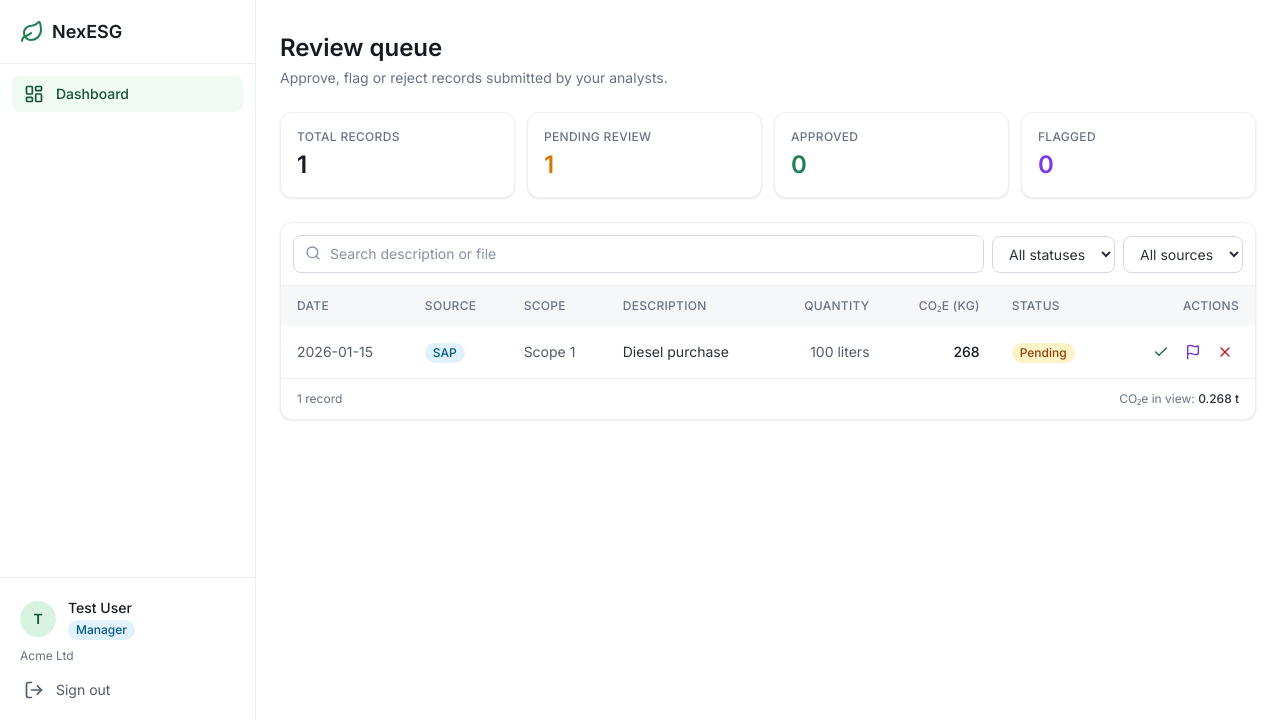
Test: dashboard by role › flagging needs a reason before anything is sent
Click the button named "flag record".
click(1193, 352)  # box 1179,338 -> 1207,366
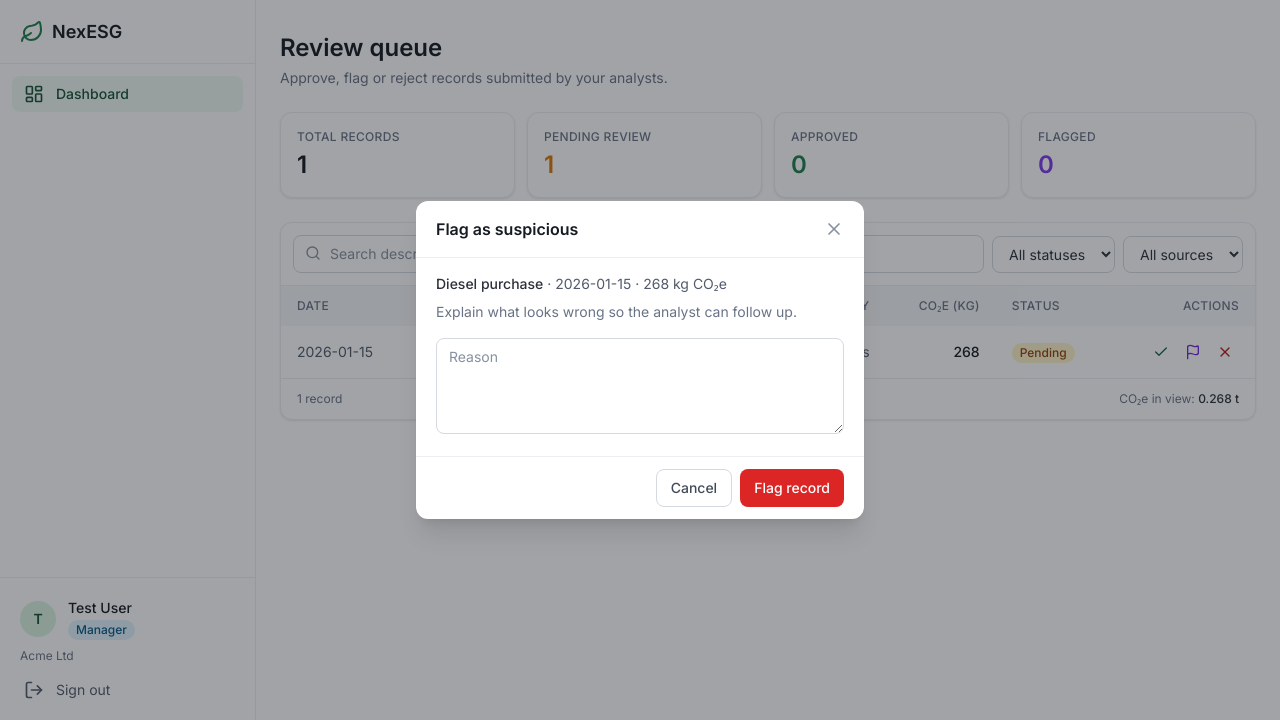
Click the button "Flag record".
click(792, 488)  # box 740,469 -> 844,507
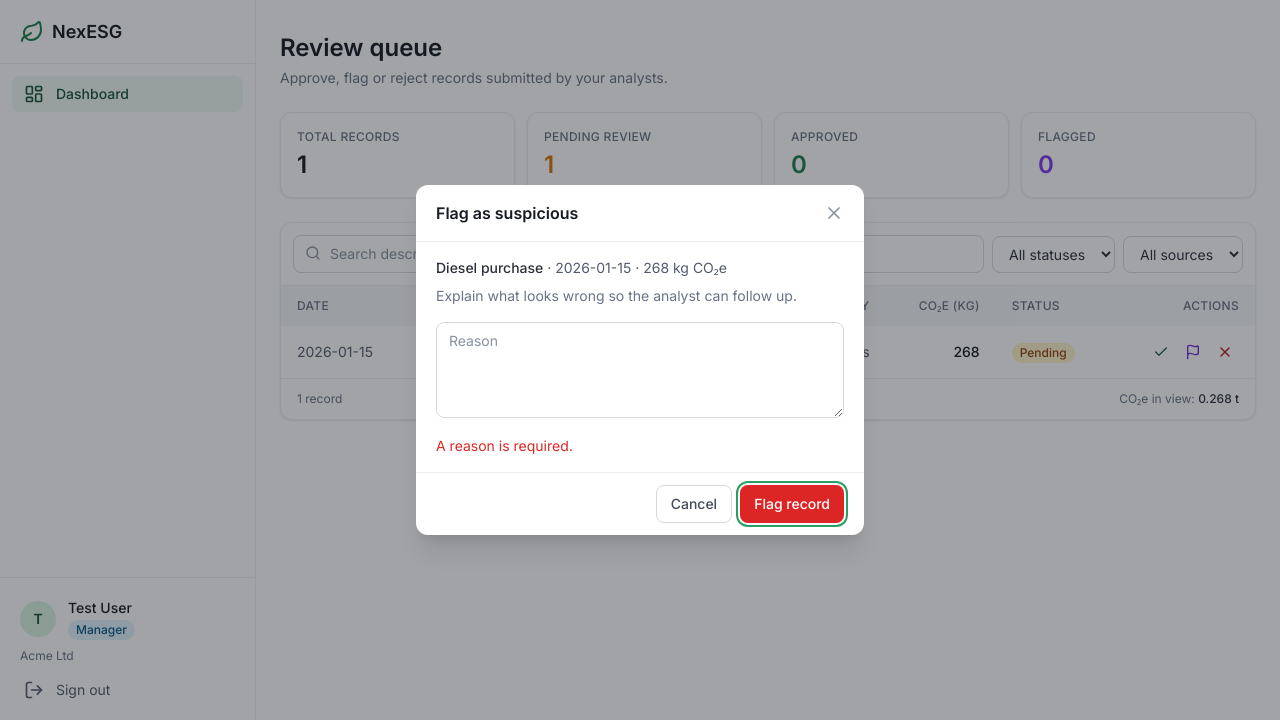
Check: the message shows "reason is required", box 436,437 -> 573,454
Type "Usage looks 3x too high" into the text box with placeholder "Reason".
click(640, 370); type("Usage looks 3x too high")  # box 436,322 -> 844,418
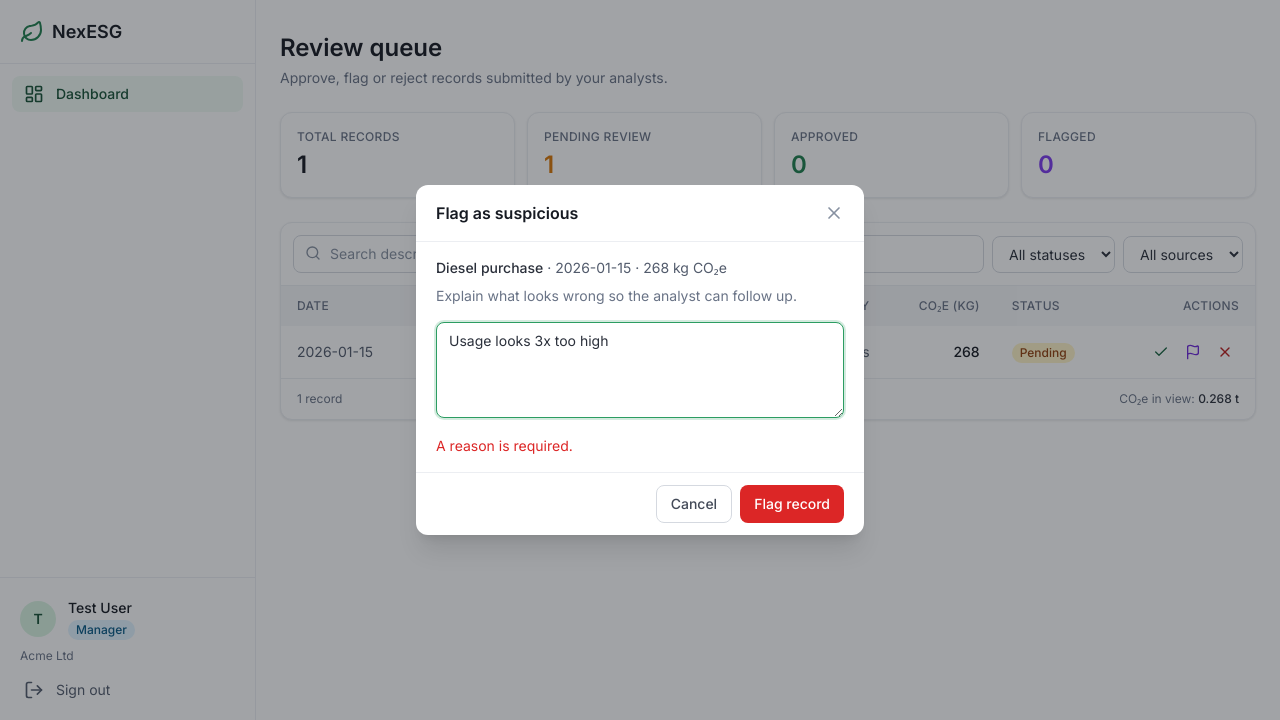
Click the button "Flag record".
click(792, 504)  # box 740,485 -> 844,523
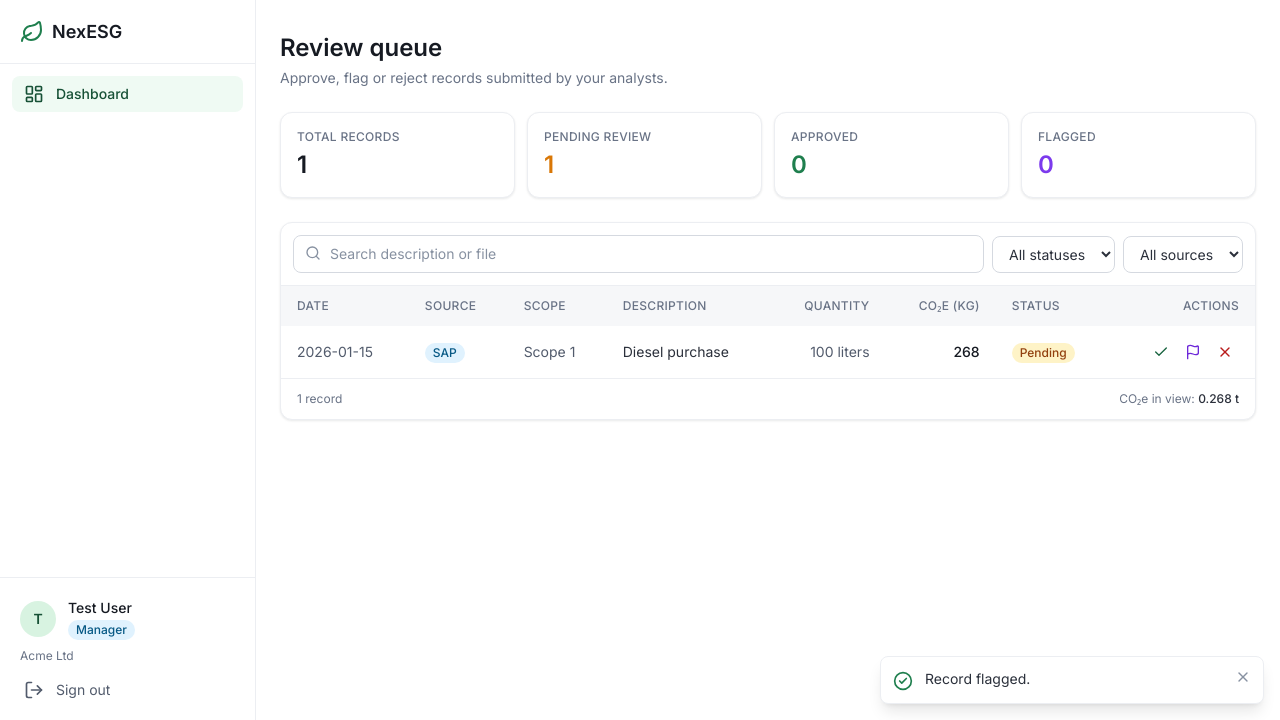
Check: the dialog is gone
